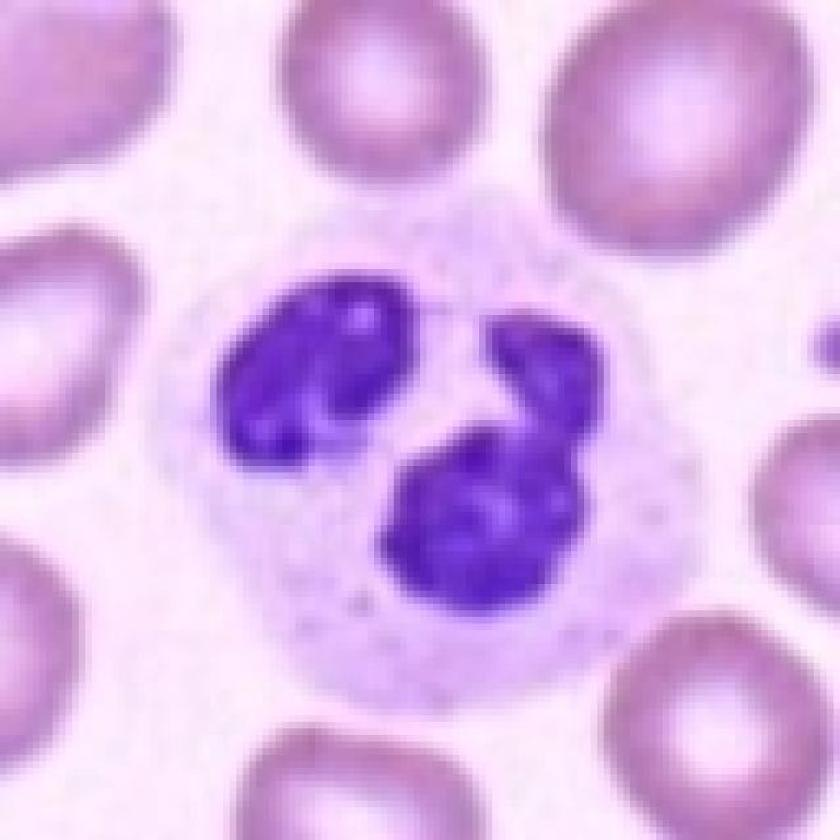neutrophil: (147, 206, 715, 722)
